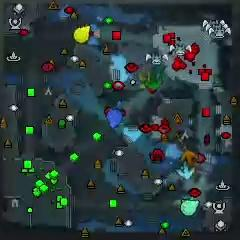p1: (107, 109, 123, 128)
p2: (181, 199, 200, 217)
p4: (73, 26, 91, 44)
x2: (138, 69, 151, 90)
x3: (177, 164, 196, 180)
x4: (145, 70, 164, 91)
x5: (180, 151, 198, 165)
